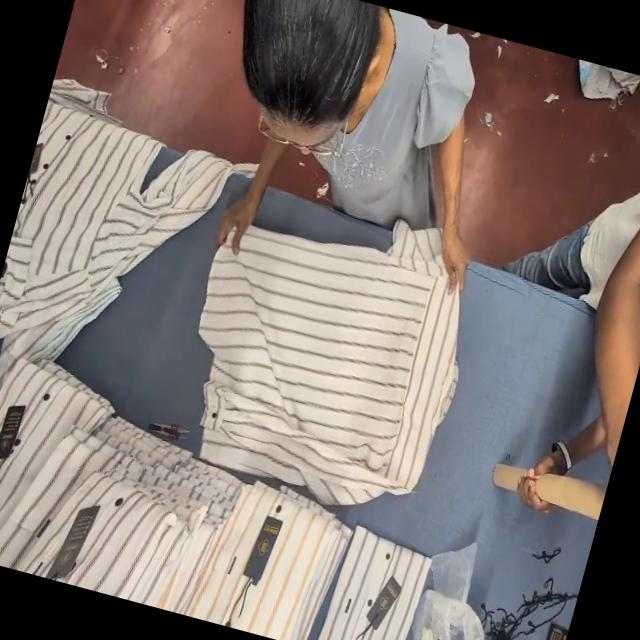new-garment: (198, 222, 457, 503)
